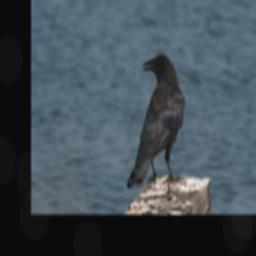Crow: (126, 53, 185, 192)
